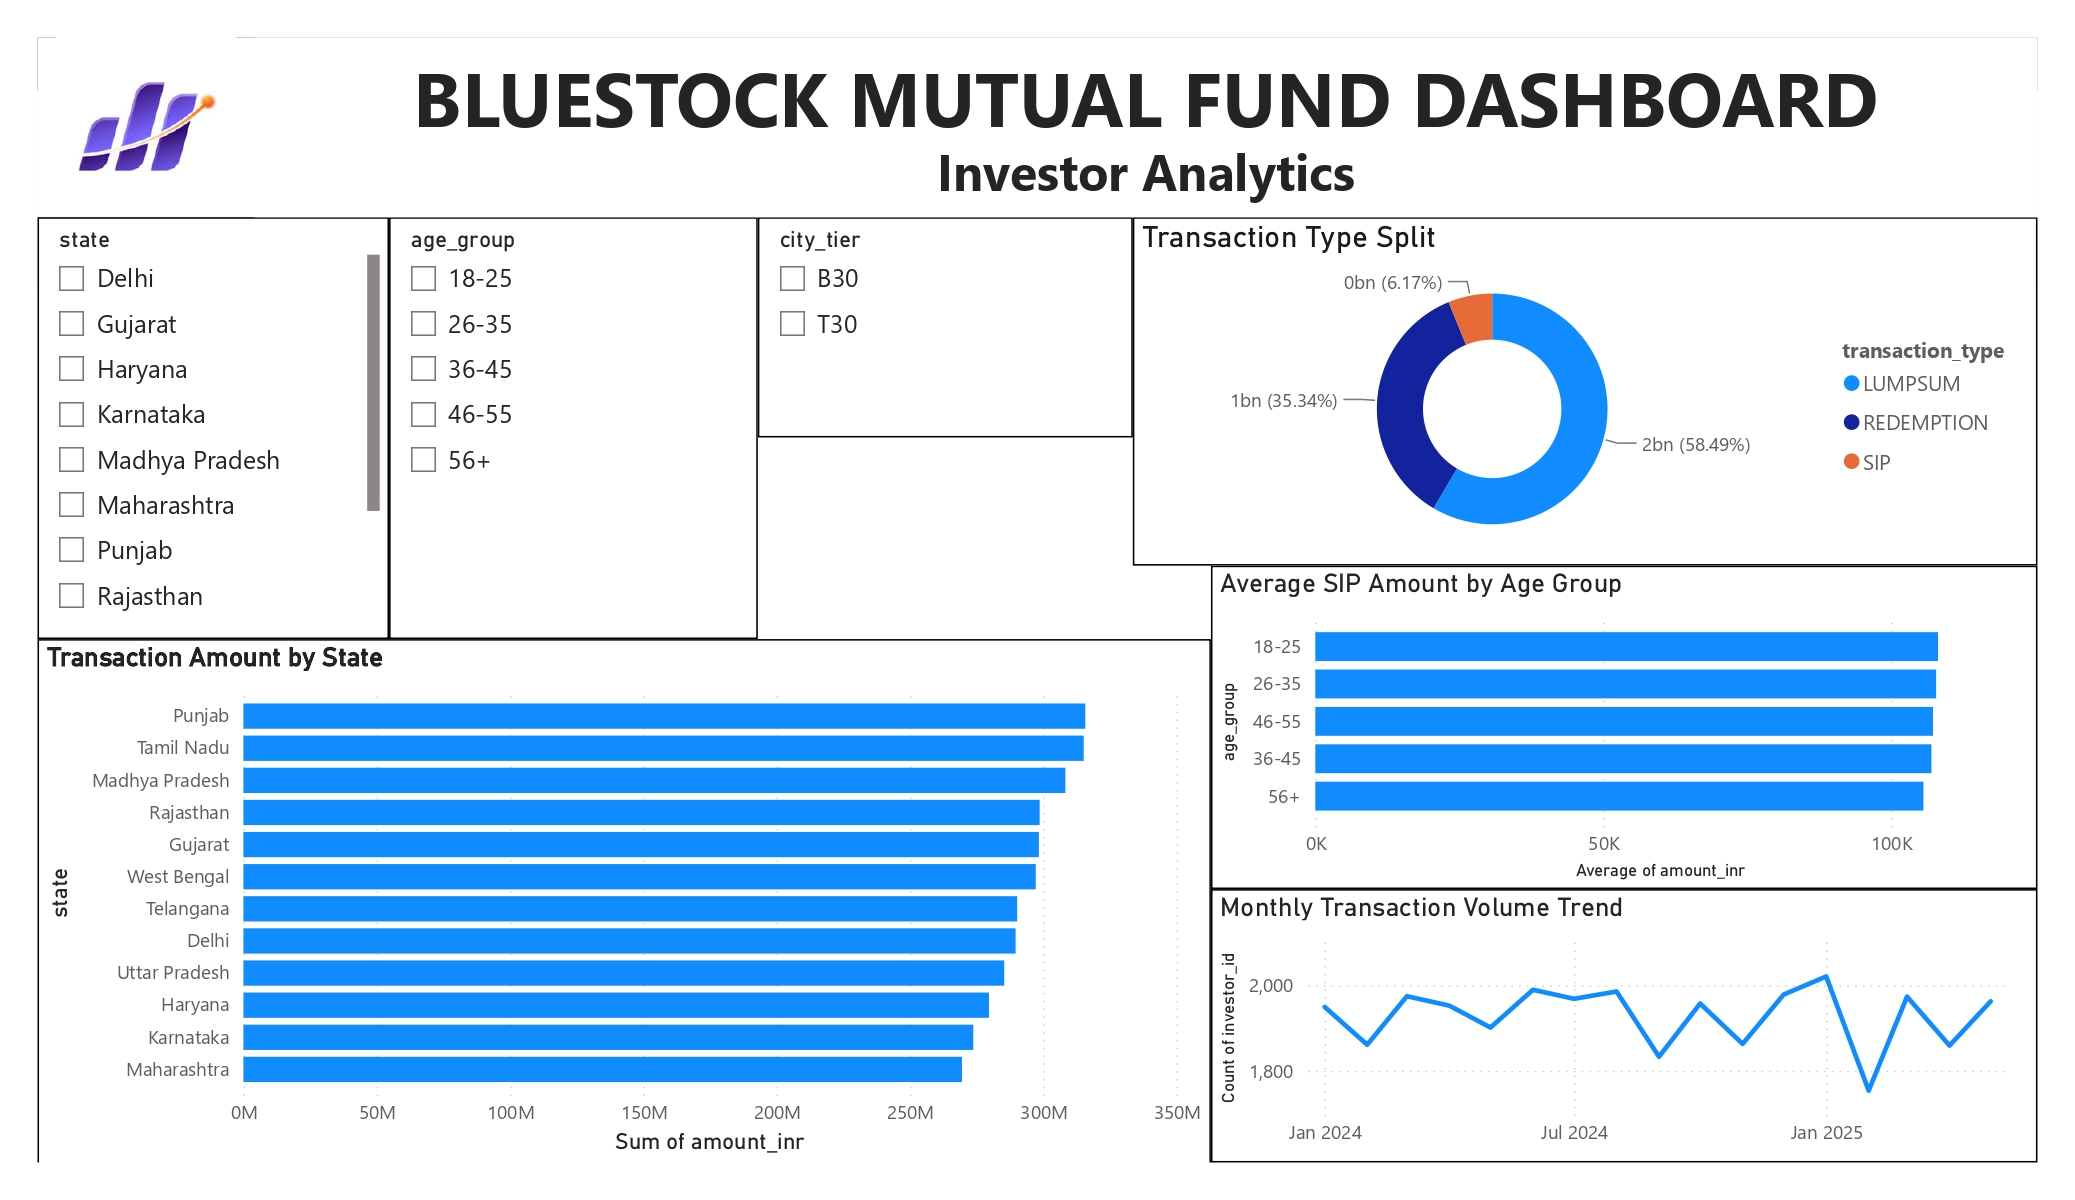

The page's visual inventory and layout, read from the dashboard file:
{"tool":"powerbi","page":{"name":"Investor Analytics","canvas":[1280,720],"ordinal":2},"visuals":[{"type":"clusteredBarChart","title":"Transaction Amount by State","fields":{"Category":["clean_investor_transactions.state"],"Y":["Sum(clean_investor_transactions.amount_inr)"]},"box":[0,385.4,751.3,335.3],"z":0},{"type":"donutChart","title":"Transaction Type Split","fields":{"Category":["clean_investor_transactions.transaction_type"],"Y":["Sum(clean_investor_transactions.amount_inr)"]},"box":[701.2,115.5,578.8,222.6],"z":1000},{"type":"clusteredBarChart","title":"Average SIP Amount by Age Group","fields":{"Category":["clean_investor_transactions.age_group"],"Y":["Avg(clean_investor_transactions.amount_inr)"]},"box":[751.3,338.1,528.7,207.3],"z":2000},{"type":"lineChart","title":"Monthly Transaction Volume Trend","fields":{"Y":["CountNonNull(clean_investor_transactions.investor_id)"],"Category":["clean_investor_transactions.transaction_date.Variation.Date Hierarchy.Year","clean_investor_transactions.transaction_date.Variation.Date Hierarchy.Quarter","clean_investor_transactions.transaction_date.Variation.Date Hierarchy.Month","clean_investor_transactions.transaction_date.Variation.Date Hierarchy.Day"]},"box":[750.8,545.4,529.5,174.9],"z":3000},{"type":"slicer","fields":{"Values":["clean_investor_transactions.state"]},"box":[0,115.5,225.4,269.9],"z":4000},{"type":"slicer","fields":{"Values":["clean_investor_transactions.age_group"]},"box":[225.4,115.5,235.1,269.9],"z":5000},{"type":"slicer","fields":{"Values":["clean_investor_transactions.city_tier"]},"box":[460.5,115.5,240.7,140.5],"z":6000},{"type":"image","box":[0,0,139.1,115.5],"z":7000},{"type":"textbox","box":[139.1,0,1140.9,115.5],"z":8000},{"type":"textbox","box":[139.1,58.4,1140.9,57],"z":8001}]}

Visuals, with their boxes on the page's 1280x720 design canvas (x1, y1, x2, y2). These are canvas units, not pixel positions in the 2075x1200 screenshot, which may show the page scaled, cropped or inside an application window:
"Transaction Amount by State" clusteredBarChart: detection(0, 385, 751, 721)
"Transaction Type Split" donutChart: detection(701, 116, 1280, 338)
"Average SIP Amount by Age Group" clusteredBarChart: detection(751, 338, 1280, 545)
"Monthly Transaction Volume Trend" lineChart: detection(751, 545, 1280, 720)
slicer - clean_investor_transactions.state: detection(0, 116, 225, 385)
slicer - clean_investor_transactions.age_group: detection(225, 116, 460, 385)
slicer - clean_investor_transactions.city_tier: detection(460, 116, 701, 256)
image: detection(0, 0, 139, 116)
textbox: detection(139, 0, 1280, 116)
textbox: detection(139, 58, 1280, 115)
